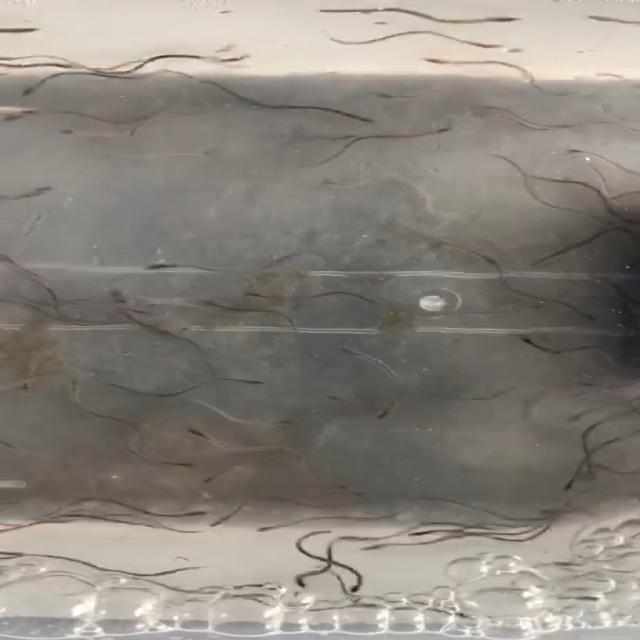active_glass_eel: (166, 505, 224, 525), (326, 340, 377, 361), (180, 290, 228, 310), (179, 423, 225, 443), (257, 414, 307, 432), (516, 328, 556, 349), (162, 456, 202, 476), (13, 183, 63, 198), (148, 260, 194, 276), (199, 52, 260, 64), (0, 21, 43, 38), (354, 85, 394, 103), (563, 589, 611, 604), (334, 111, 384, 125), (108, 286, 137, 310), (207, 509, 241, 529), (318, 389, 357, 406), (374, 402, 404, 424), (226, 374, 272, 388), (10, 82, 47, 99), (67, 374, 92, 398), (455, 608, 495, 623), (461, 40, 510, 52), (195, 472, 229, 489), (405, 526, 453, 538), (484, 14, 528, 27), (409, 53, 453, 66), (354, 541, 401, 553), (46, 59, 86, 73), (121, 123, 152, 141), (18, 373, 42, 396), (556, 472, 581, 494), (238, 288, 279, 301), (338, 482, 368, 499), (426, 120, 456, 136), (252, 518, 280, 535), (577, 308, 612, 321), (348, 576, 368, 596), (295, 572, 314, 593), (562, 148, 592, 159)
